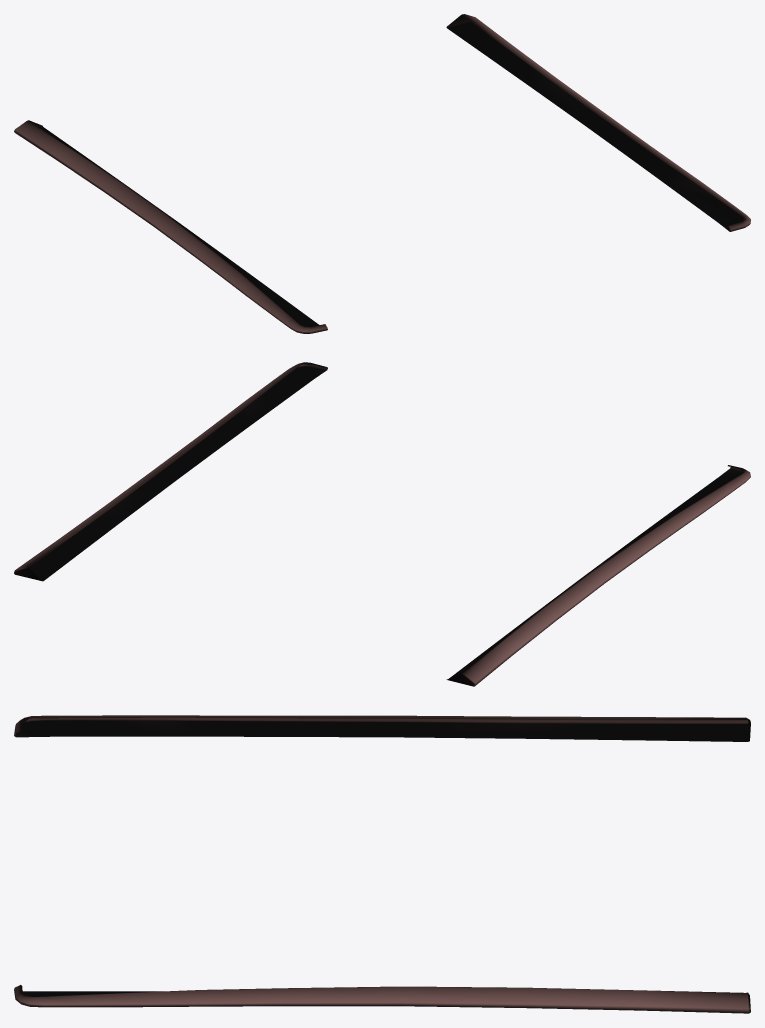
File: Zr1_Skirt_01_Trim.fbx
3 renders of one model, top to bottom at view 1: azimuth 30°, elevation 25°; view 2: azimuth 150°, elevation 25°; view 3: azimuth 270°, elevation 25°, orthographic. The views are drawn at different scales.
Parts seen in each view (by area): view 1: Zr1_Skirt_01_Trim; view 2: Zr1_Skirt_01_Trim; view 3: Zr1_Skirt_01_Trim.
Boxes of the visible parts, x1,y1,x2,y2 form: Zr1_Skirt_01_Trim: [14, 14, 750, 333]; Zr1_Skirt_01_Trim: [14, 362, 750, 686]; Zr1_Skirt_01_Trim: [14, 715, 750, 1013].
Size of the model in its own units: 180 by 5.2 by 193.
